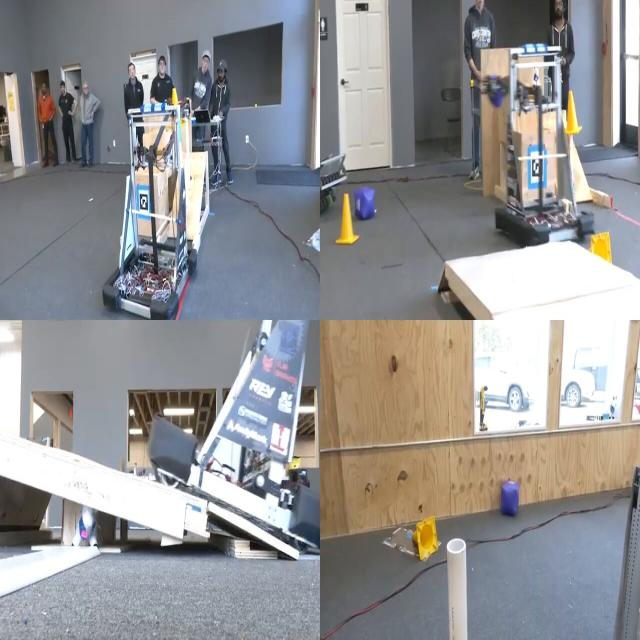frc_cone: (412, 513, 443, 567), (589, 226, 618, 266), (563, 92, 584, 139), (338, 193, 355, 246), (170, 92, 184, 124)
frc_cube: (498, 481, 521, 518), (357, 187, 373, 221)
